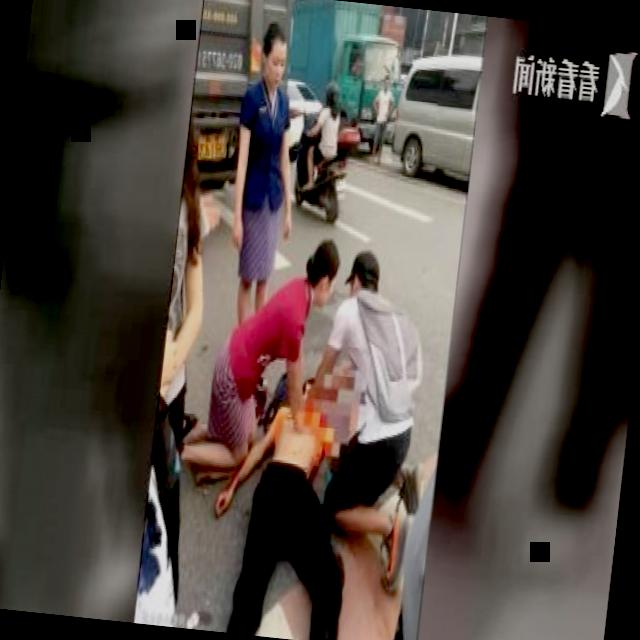Fall-Detected: (203, 348, 394, 640)
